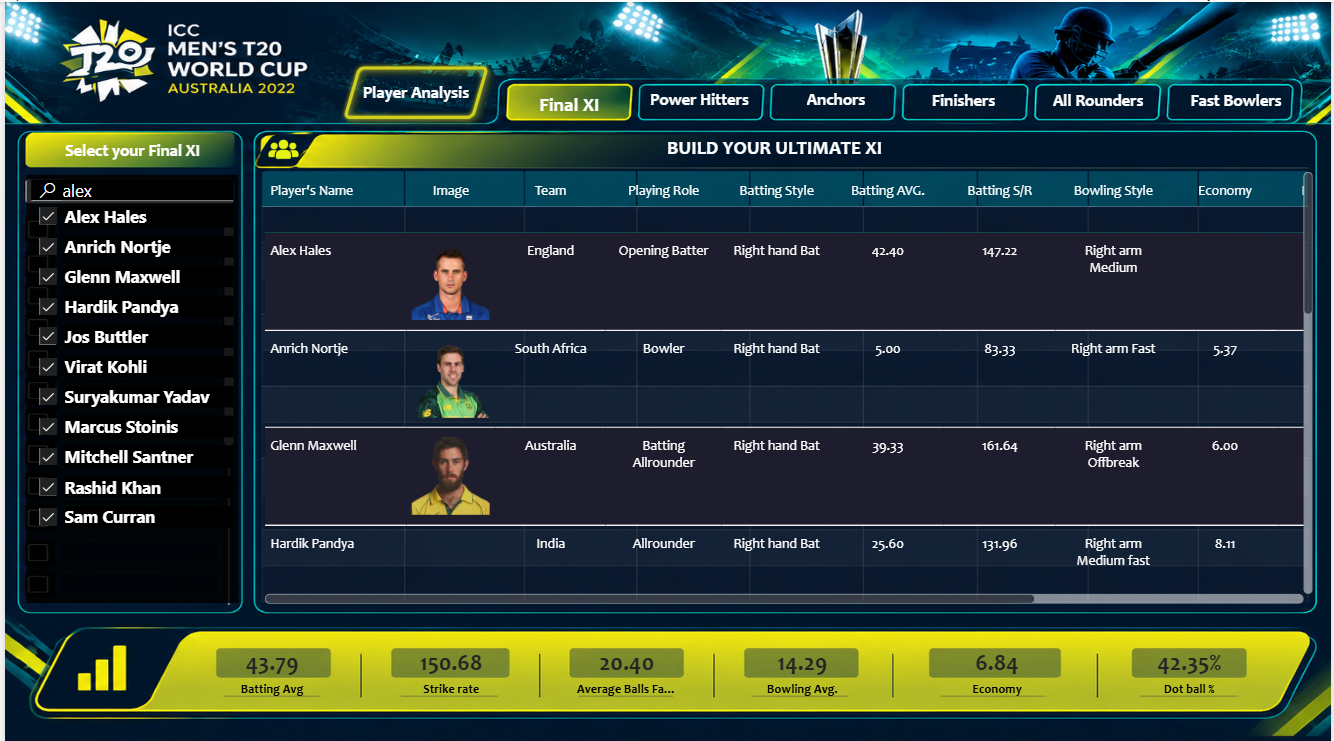

Layout of this report page (visuals, bound fields, positions):
{"tool":"powerbi","page":{"name":"Final XI","canvas":[1280,720],"ordinal":5},"visuals":[{"type":"actionButton","title":"Button  Power Hitters","box":[598.8,70,143.8,48.8],"z":1001},{"type":"actionButton","title":"Button Anchores","box":[742.5,70,120,48.8],"z":1002},{"type":"actionButton","title":"Button Finishers","box":[862.5,70,125,50],"z":1003},{"type":"actionButton","title":"Button All Rounders","box":[987.5,71.2,133.8,48.8],"z":1004},{"type":"actionButton","title":"Button Fast Bowler selected","box":[1108.8,72.5,158.8,42.5],"z":1005},{"type":"actionButton","title":"Button Player Ana selected","box":[476.2,75,136.2,48.8],"z":1006},{"type":"pivotTable","fields":{"Rows":["dim_player.name"],"Values":["Min(dim_players.image)","Min(dim_player.team)","Min(dim_player.Playing Role)","Min(dim_player.Batting Style)","Key_Measures.Bat Avg","Key_Measures.Strike rate","Min(dim_player.Bowling Style)","Key_Measures.Economy","Key_Measures.Bowling Strike Rate","Key_Measures.Bowling Average","Sum(dim_player.Custom Batting Order)"]},"box":[246.2,158.8,1021.2,426.2],"z":1007},{"type":"group","id":"g1","title":"Group 1","box":[20,166.2,205,413.8],"z":1008},{"type":"shape","box":[20,120,205,46.2],"z":1009},{"type":"card","fields":{"Values":["Key_Measures.Bat Avg"]},"box":[175,607.5,166.2,73.8],"z":1010},{"type":"card","fields":{"Values":["Key_Measures.Strike rate"]},"box":[372.5,607.5,116.2,73.8],"z":1011},{"type":"card","fields":{"Values":["Key_Measures.Avergate Balls Faced"]},"box":[545,606.2,110,75],"z":1012},{"type":"card","fields":{"Values":["Key_Measures.Bowling Average"]},"box":[713.8,606.2,111.2,75],"z":1013},{"type":"card","fields":{"Values":["Key_Measures.Economy"]},"box":[892.5,607.5,130,73.8],"z":1015},{"type":"card","fields":{"Values":["Key_Measures.Dot ball %"]},"box":[1086.2,607.5,115,73.8],"z":1016},{"type":"shape","box":[547.5,121.2,390,37.5],"z":1017},{"type":"image","box":[225,102.5,88.8,78.8],"z":1018},{"type":"actionButton","title":"Button Player Ana selected","box":[317.5,52.5,158.8,68.8],"z":1019},{"type":"slicer","fields":{"Values":["dim_player.name"]},"box":[20,166.2,205,413.8],"z":11000,"group":"g1"}]}

Visuals, with their boxes in screenshot pixels (x1, y1, x2, y2), scaled from the page's 1280x720 canvas onto the 1334x741 screenshot:
"Button  Power Hitters" actionButton: (x1=624, y1=72, x2=774, y2=122)
"Button Anchores" actionButton: (x1=774, y1=72, x2=899, y2=122)
"Button Finishers" actionButton: (x1=899, y1=72, x2=1029, y2=123)
"Button All Rounders" actionButton: (x1=1029, y1=73, x2=1169, y2=123)
"Button Fast Bowler selected" actionButton: (x1=1156, y1=75, x2=1321, y2=118)
"Button Player Ana selected" actionButton: (x1=496, y1=77, x2=638, y2=127)
pivotTable - dim_player.name x Min(dim_players.image): (x1=257, y1=163, x2=1321, y2=602)
"Group 1" group: (x1=21, y1=171, x2=234, y2=597)
shape: (x1=21, y1=123, x2=234, y2=171)
card - Key_Measures.Bat Avg: (x1=182, y1=625, x2=356, y2=701)
card - Key_Measures.Strike rate: (x1=388, y1=625, x2=509, y2=701)
card - Key_Measures.Avergate Balls Faced: (x1=568, y1=624, x2=683, y2=701)
card - Key_Measures.Bowling Average: (x1=744, y1=624, x2=860, y2=701)
card - Key_Measures.Economy: (x1=930, y1=625, x2=1066, y2=701)
card - Key_Measures.Dot ball %: (x1=1132, y1=625, x2=1252, y2=701)
shape: (x1=571, y1=125, x2=977, y2=163)
image: (x1=234, y1=105, x2=327, y2=187)
"Button Player Ana selected" actionButton: (x1=331, y1=54, x2=496, y2=125)
slicer - dim_player.name: (x1=21, y1=171, x2=234, y2=597)
